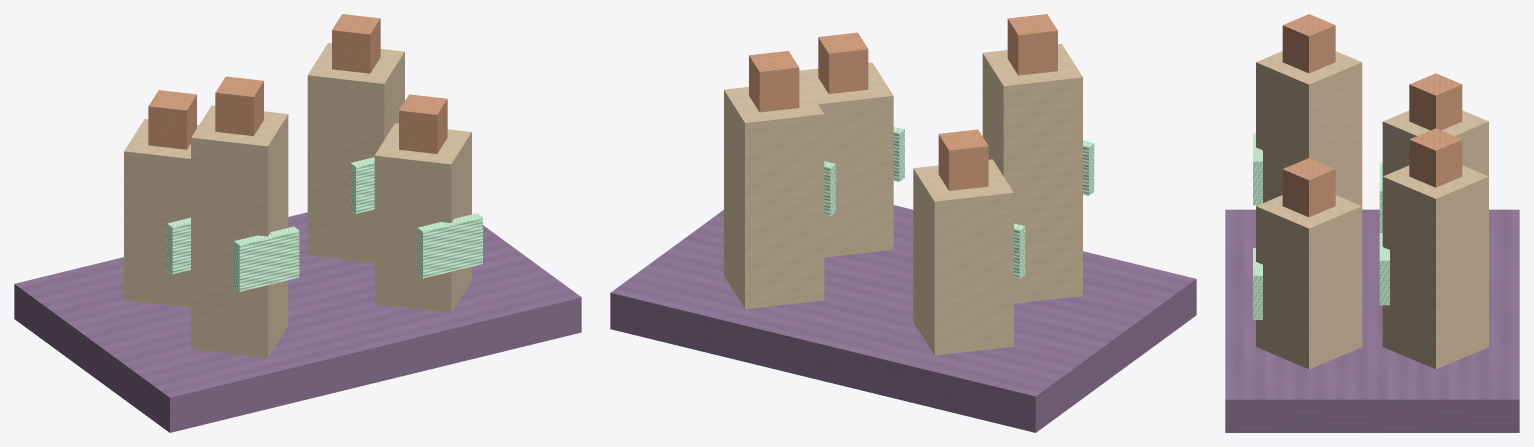
The model's file is atlas100-s081-a04.glb.
3 renders of one model, left to right at view 1: azimuth 30°, elevation 25°; view 2: azimuth 150°, elevation 25°; view 3: azimuth 270°, elevation 25°, orthographic. The views are drawn at different scales.
Visible parts, largest first — view 1: atlas100-s081-a04:part-000, atlas100-s081-a04:part-007, atlas100-s081-a04:part-004, atlas100-s081-a04:part-010, atlas100-s081-a04:part-001, atlas100-s081-a04:part-012, atlas100-s081-a04:part-009, atlas100-s081-a04:part-008, atlas100-s081-a04:part-011, atlas100-s081-a04:part-005, atlas100-s081-a04:part-002, atlas100-s081-a04:part-006 (+1 smaller); view 2: atlas100-s081-a04:part-000, atlas100-s081-a04:part-004, atlas100-s081-a04:part-007, atlas100-s081-a04:part-001, atlas100-s081-a04:part-010, atlas100-s081-a04:part-008, atlas100-s081-a04:part-002, atlas100-s081-a04:part-005, atlas100-s081-a04:part-011, atlas100-s081-a04:part-012, atlas100-s081-a04:part-006, atlas100-s081-a04:part-009 (+1 smaller); view 3: atlas100-s081-a04:part-000, atlas100-s081-a04:part-004, atlas100-s081-a04:part-010, atlas100-s081-a04:part-007, atlas100-s081-a04:part-001, atlas100-s081-a04:part-005, atlas100-s081-a04:part-008, atlas100-s081-a04:part-011, atlas100-s081-a04:part-002, atlas100-s081-a04:part-006, atlas100-s081-a04:part-012, atlas100-s081-a04:part-009.
Boxes of the visible parts, x1,y1,x2,y2 form: atlas100-s081-a04:part-000: (14, 212, 581, 432); atlas100-s081-a04:part-007: (191, 105, 288, 357); atlas100-s081-a04:part-004: (307, 43, 404, 262); atlas100-s081-a04:part-010: (374, 123, 471, 313); atlas100-s081-a04:part-001: (124, 119, 198, 307); atlas100-s081-a04:part-012: (417, 213, 482, 278); atlas100-s081-a04:part-009: (234, 226, 299, 291); atlas100-s081-a04:part-008: (215, 76, 263, 135); atlas100-s081-a04:part-011: (399, 94, 447, 153); atlas100-s081-a04:part-005: (332, 14, 380, 73); atlas100-s081-a04:part-002: (148, 90, 196, 149); atlas100-s081-a04:part-006: (350, 157, 374, 213); atlas100-s081-a04:part-000: (610, 205, 1196, 432); atlas100-s081-a04:part-004: (724, 80, 824, 309); atlas100-s081-a04:part-007: (982, 44, 1082, 303); atlas100-s081-a04:part-001: (913, 159, 1013, 355); atlas100-s081-a04:part-010: (799, 62, 893, 257); atlas100-s081-a04:part-008: (1007, 14, 1057, 75); atlas100-s081-a04:part-002: (938, 129, 988, 190); atlas100-s081-a04:part-005: (749, 51, 799, 112); atlas100-s081-a04:part-011: (818, 32, 868, 93); atlas100-s081-a04:part-012: (893, 126, 904, 181); atlas100-s081-a04:part-006: (824, 161, 835, 216); atlas100-s081-a04:part-009: (1083, 140, 1094, 195); atlas100-s081-a04:part-000: (1225, 209, 1519, 432); atlas100-s081-a04:part-004: (1382, 165, 1488, 369); atlas100-s081-a04:part-010: (1256, 195, 1362, 369); atlas100-s081-a04:part-007: (1256, 51, 1362, 205); atlas100-s081-a04:part-001: (1382, 110, 1488, 176); atlas100-s081-a04:part-005: (1409, 128, 1462, 187); atlas100-s081-a04:part-008: (1282, 14, 1335, 73); atlas100-s081-a04:part-011: (1282, 158, 1335, 217); atlas100-s081-a04:part-002: (1409, 73, 1462, 130); atlas100-s081-a04:part-006: (1379, 233, 1389, 305); atlas100-s081-a04:part-012: (1253, 248, 1262, 319); atlas100-s081-a04:part-009: (1253, 133, 1262, 205).
Bounding box in the file's own units: 1.18 × 0.7804 × 0.7697.
4 materials, 4 textured.
